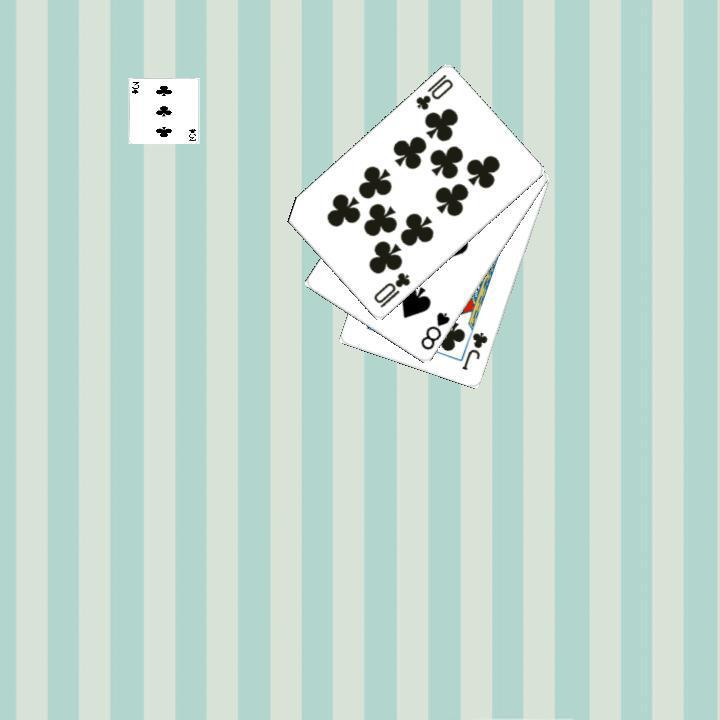10: (411, 70, 455, 113), (369, 268, 412, 310)
8: (416, 308, 452, 353)
J: (458, 328, 490, 373)
